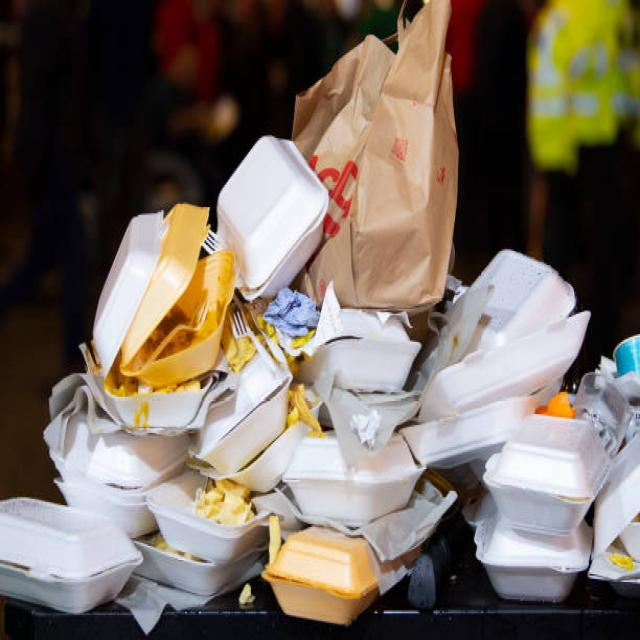cardboard: (32, 113, 600, 588)
